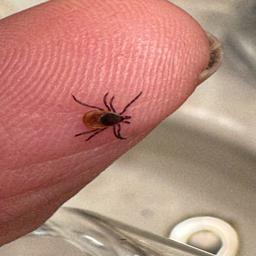Ixodes scapularis: (71, 91, 142, 141)
